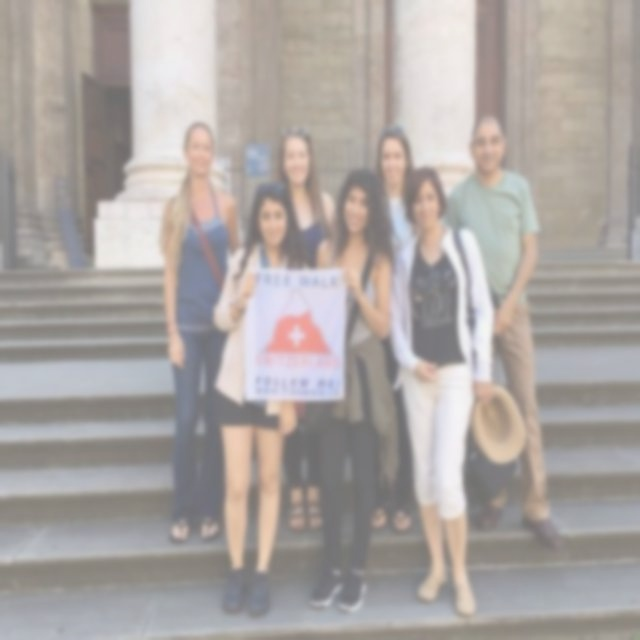pessoa: (380, 162, 530, 618), (440, 111, 564, 552), (296, 164, 404, 618), (206, 178, 314, 620), (154, 118, 243, 550), (272, 126, 340, 534), (370, 123, 422, 536)
